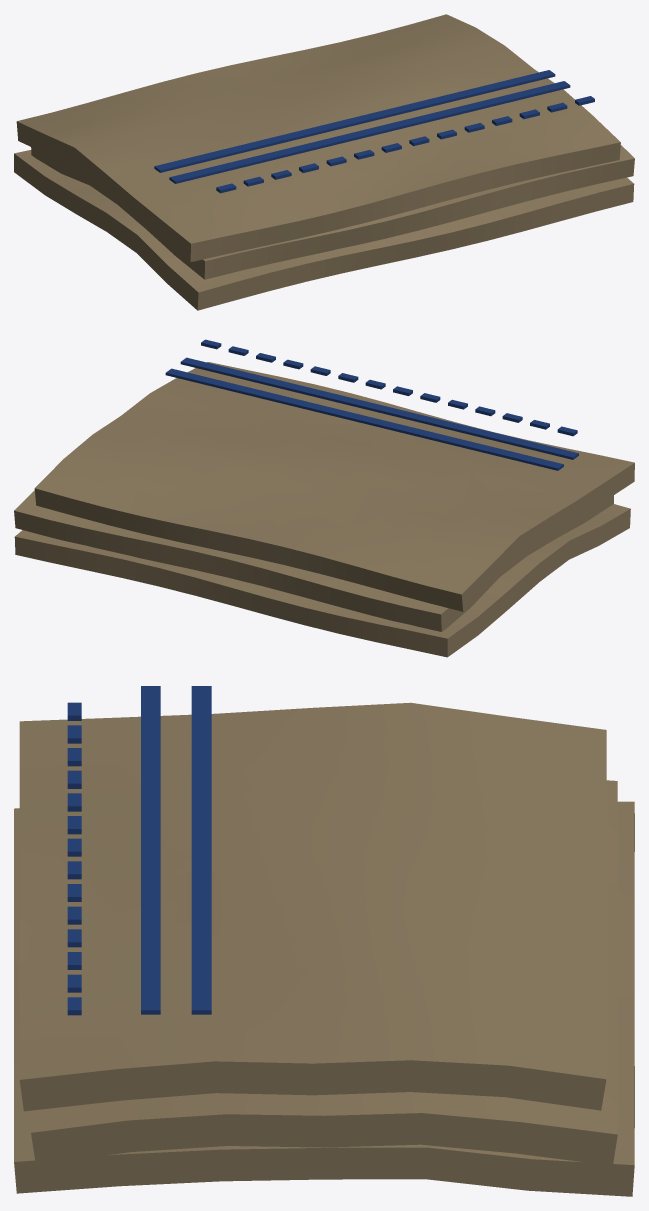
File: wipe_cloth.glb
3 views of the same model, one above another, from view 1: azimuth 30°, elevation 25°; view 2: azimuth 150°, elevation 25°; view 3: azimuth 270°, elevation 25° (orthographic). The views are drawn at different scales.
Parts seen in each view (by area): view 1: wipe_cloth; view 2: wipe_cloth; view 3: wipe_cloth.
Part boxes in pixels (x1,y1,x2,y2): wipe_cloth: [14, 14, 634, 310]; wipe_cloth: [14, 339, 634, 657]; wipe_cloth: [14, 686, 634, 1196].
Size of the model in its own units: 0.154 by 0.0334 by 0.11.
